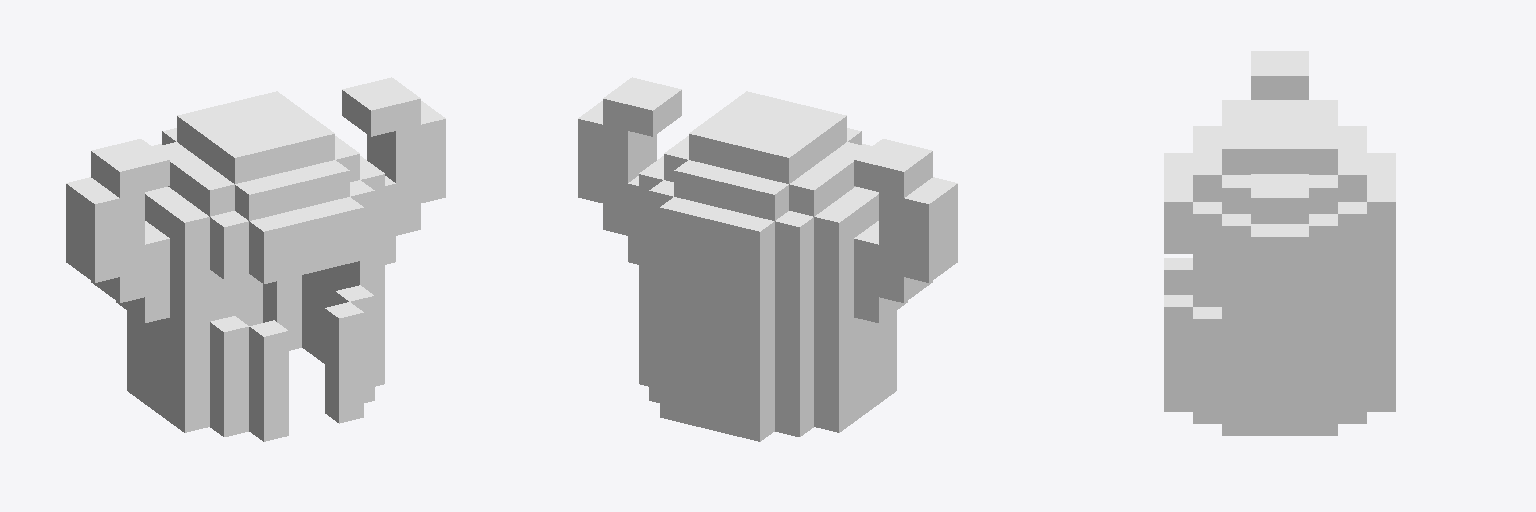
Rendered from pHelmet.obj.
The picture shows the model from 3 angles: view 1: azimuth 30°, elevation 25°; view 2: azimuth 150°, elevation 25°; view 3: azimuth 270°, elevation 25°; orthographic projection.
Parts seen in each view (by area): view 1: object 1; view 2: object 1; view 3: object 1.
Part boxes in pixels (bbox=[...]): object 1: bbox=[66, 77, 445, 441]; object 1: bbox=[578, 77, 957, 441]; object 1: bbox=[1164, 51, 1395, 435].
Size of the model in its own units: 1.4 by 1 by 0.8.